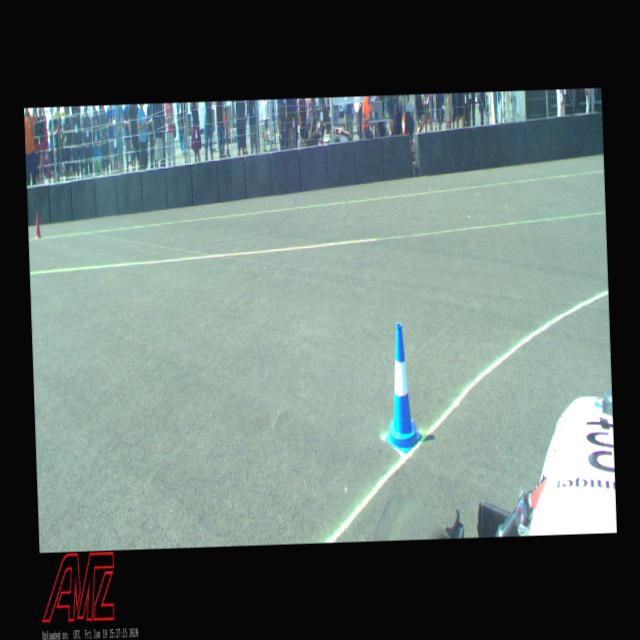blue_cone: (381, 322, 422, 454)
